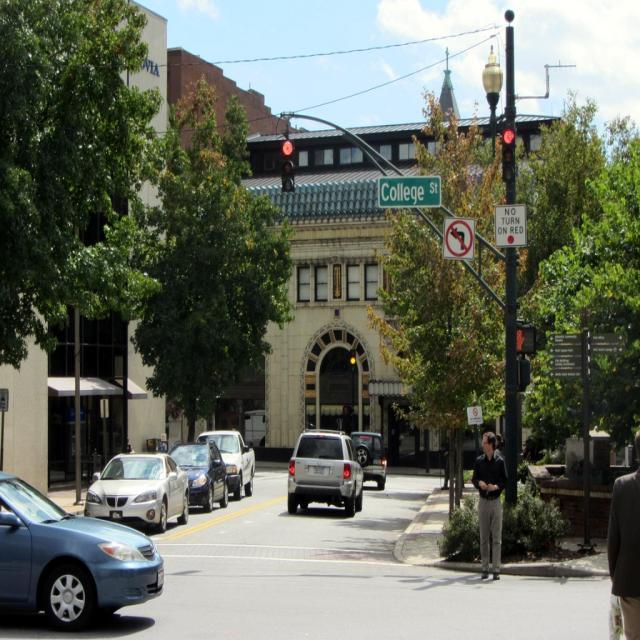road_sign: (443, 218, 474, 258)
traffic light: (281, 139, 295, 192), (502, 128, 515, 181)
